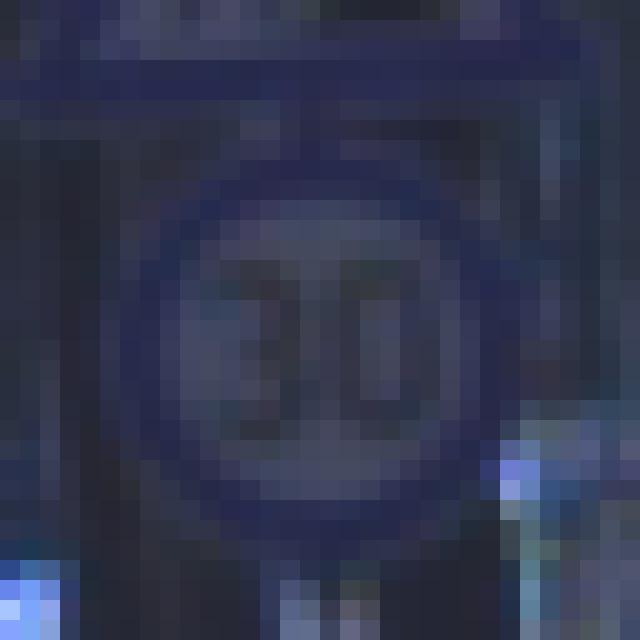SPEED LIMIT 30: (120, 160, 528, 538)
